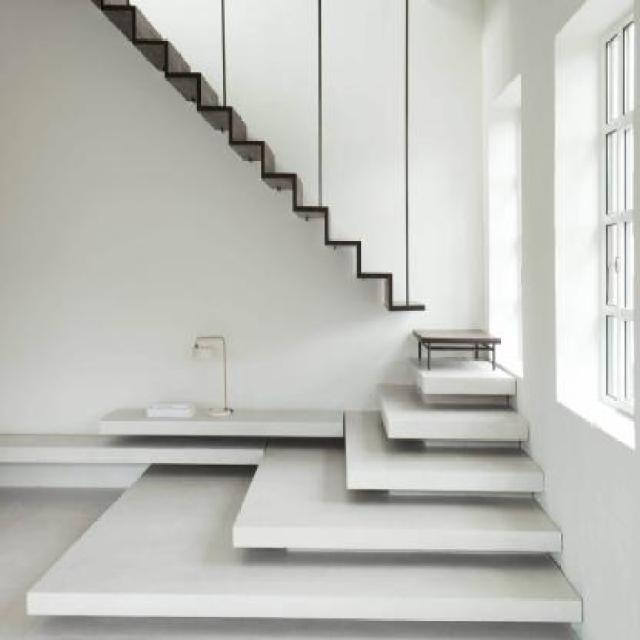stair: (28, 314, 602, 635), (66, 3, 483, 306)
